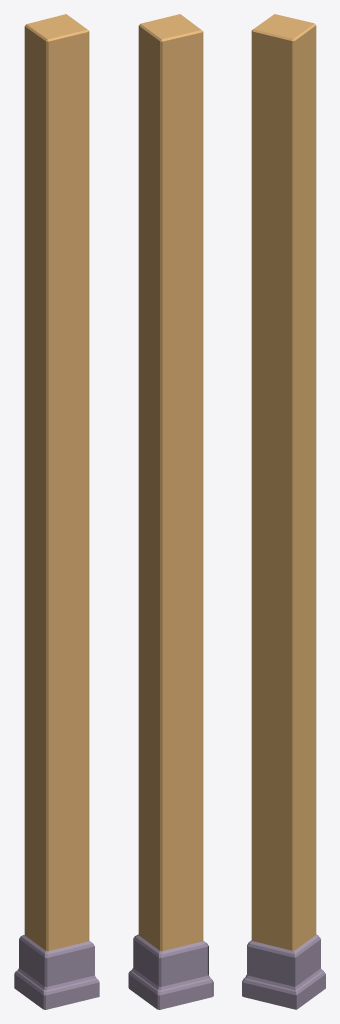
File: Wall Pillar.fbx
3 renders of one model, left to right at view 1: azimuth 30°, elevation 25°; view 2: azimuth 210°, elevation 25°; view 3: azimuth 330°, elevation 25°, orthographic.
Parts seen in each view (by area): view 1: Wall Pillar; view 2: Wall Pillar; view 3: Wall Pillar.
Boxes of the visible parts, x1,y1,x2,y2 form: Wall Pillar: (14, 14, 99, 1009); Wall Pillar: (128, 14, 213, 1009); Wall Pillar: (242, 14, 325, 1009).
Size of the model in its own units: 0.18 by 3 by 0.17.
